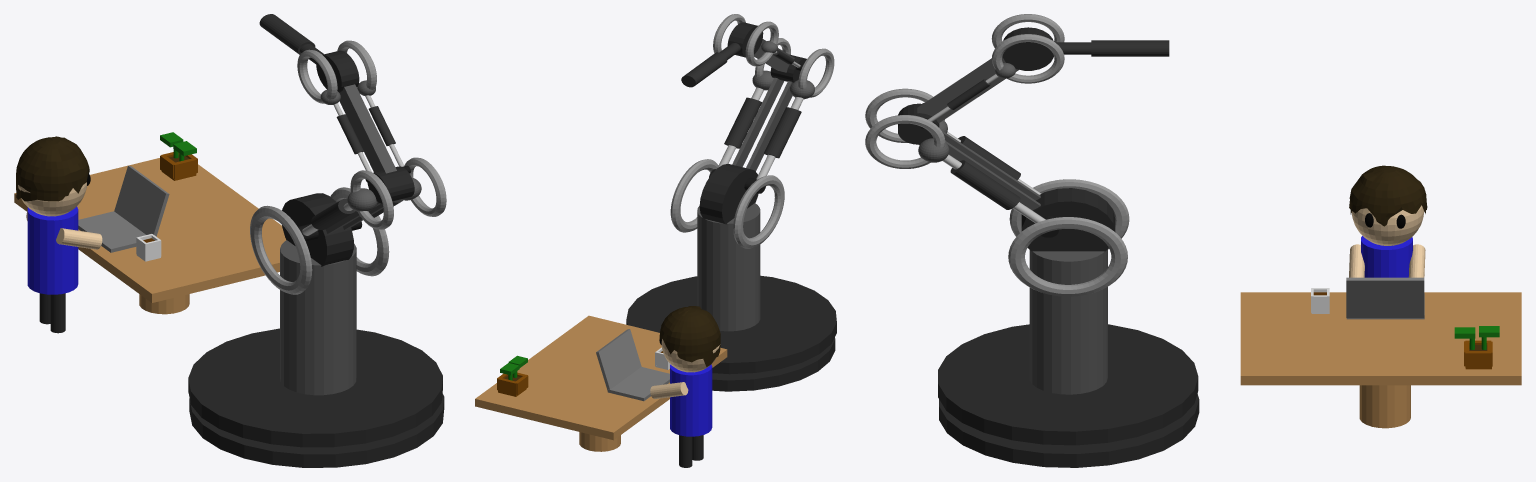
The model's file is MannyObject.glb.
3 renders of one model, left to right at view 1: azimuth 30°, elevation 25°; view 2: azimuth 150°, elevation 25°; view 3: azimuth 270°, elevation 25°, orthographic. The views are drawn at different scales.
Parts seen in each view (by area): view 1: Cylinder.022, Cylinder.023, Cube.003, Sphere.005, Cylinder.019, Cube.004, Sphere.004, Cylinder.025, Cylinder.020, Cube.005; view 2: Cylinder.022, Cylinder.023, Cube.003, Sphere.005, Cylinder.019, Cube.004, Sphere.004, Cylinder.024, Cylinder.021; view 3: Cylinder.022, Cylinder.023, Cube.003, Sphere.005, Cylinder.019, Sphere.004, Cube.004.
Boxes of the visible parts, bbox=[...] form: Cylinder.022: bbox=[188, 14, 446, 467]; Cylinder.023: bbox=[14, 158, 285, 314]; Cube.003: bbox=[78, 165, 169, 252]; Sphere.005: bbox=[16, 136, 89, 201]; Cylinder.019: bbox=[27, 206, 78, 294]; Cube.004: bbox=[160, 132, 197, 180]; Sphere.004: bbox=[18, 182, 86, 216]; Cylinder.025: bbox=[56, 228, 102, 249]; Cylinder.020: bbox=[50, 293, 65, 333]; Cube.005: bbox=[136, 234, 161, 261]; Cylinder.022: bbox=[626, 14, 836, 391]; Cylinder.023: bbox=[475, 315, 727, 451]; Cube.003: bbox=[596, 329, 669, 401]; Sphere.005: bbox=[659, 306, 720, 366]; Cylinder.019: bbox=[670, 364, 712, 436]; Cube.004: bbox=[497, 355, 528, 396]; Sphere.004: bbox=[661, 339, 720, 372]; Cylinder.024: bbox=[650, 382, 688, 399]; Cylinder.021: bbox=[679, 435, 692, 467]; Cylinder.022: bbox=[865, 14, 1199, 467]; Cylinder.023: bbox=[1240, 292, 1521, 428]; Cube.003: bbox=[1346, 277, 1424, 319]; Sphere.005: bbox=[1349, 165, 1427, 226]; Cylinder.019: bbox=[1361, 236, 1412, 277]; Sphere.004: bbox=[1351, 205, 1424, 245]; Cube.004: bbox=[1454, 326, 1499, 369].
Bounding box in the file's own units: 0.5673 × 0.8308 × 1.26.
